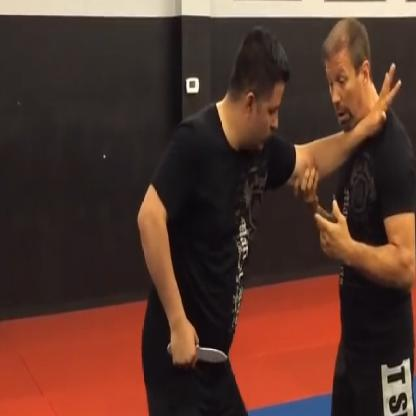knife: (163, 332, 231, 371)
